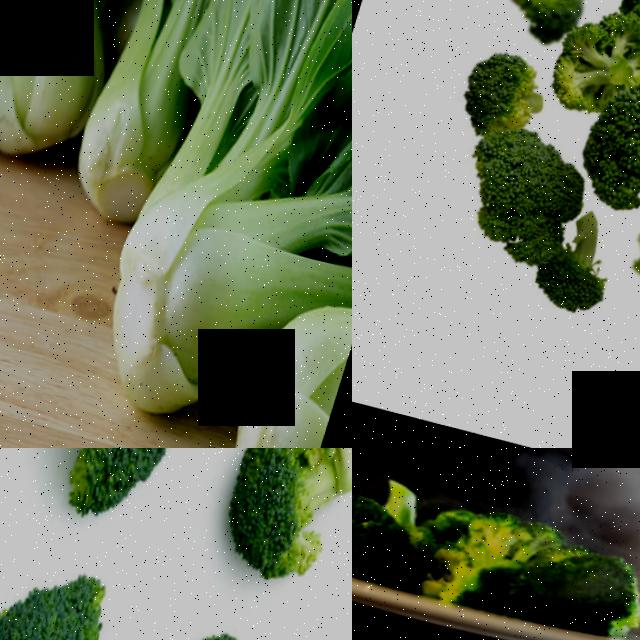bok choy: (111, 77, 352, 409), (60, 0, 233, 230), (0, 0, 129, 160)
broccoli: (352, 459, 640, 640), (4, 448, 240, 573), (200, 448, 352, 612), (459, 126, 582, 260), (89, 585, 342, 640), (0, 542, 140, 640), (568, 48, 640, 223), (531, 201, 632, 319), (541, 5, 640, 111), (437, 44, 547, 135), (478, 0, 598, 42)
